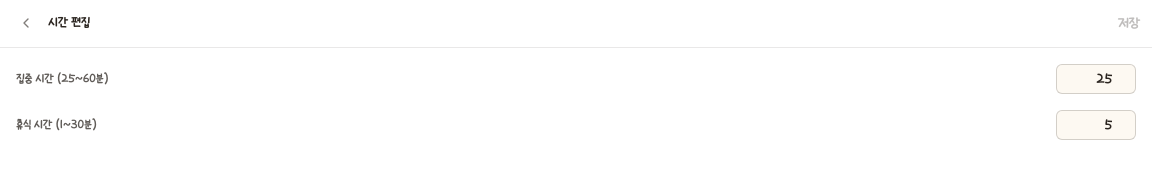
DurationsEditScreen › shows inline error when focus out of range
Replace the text in the number field showing "25" with "61": (1096, 79) [1056, 64, 1136, 94]
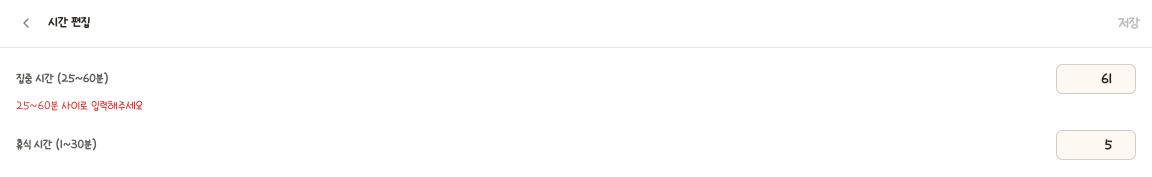
expect the text "25~60분 사이로 입력해주세요" is shown: met, box [16, 99, 143, 113]
